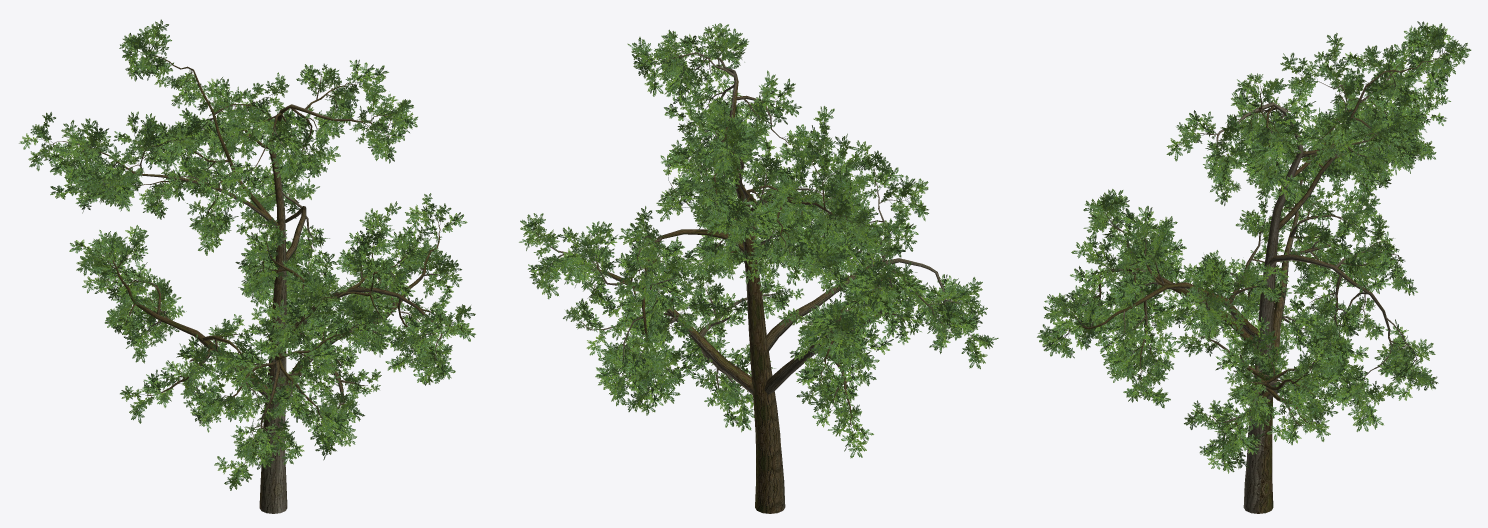
Rendered from ash.glb.
The picture shows the model from 3 angles, left to right: view 1: azimuth 30°, elevation 25°; view 2: azimuth 150°, elevation 25°; view 3: azimuth 270°, elevation 25°; orthographic projection. The views are drawn at different scales.
Bounding box in the file's own units: 65.41 × 70 × 59.23.
Materials: 2 (2 with a texture image).
